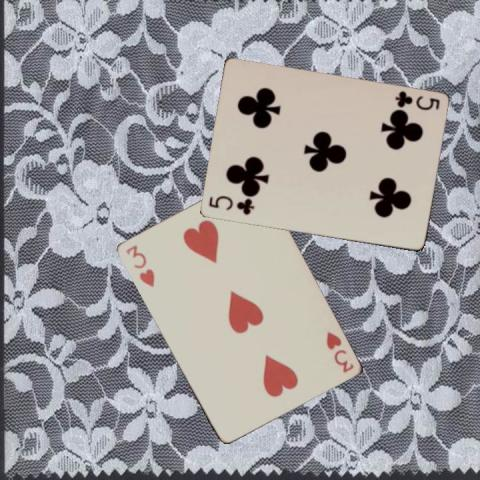3h: (123, 242, 156, 289), (322, 328, 354, 374)
5c: (206, 193, 256, 217), (391, 88, 441, 112)
